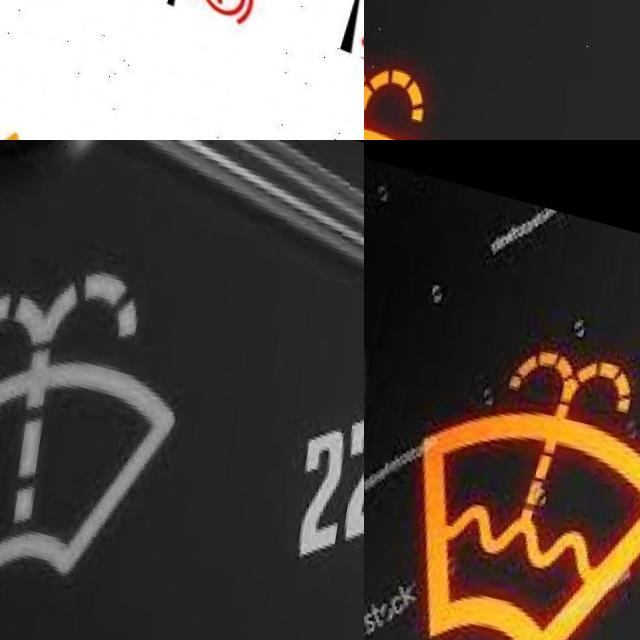Washer Fluid: (0, 218, 203, 632), (410, 305, 640, 640), (364, 15, 504, 140)
